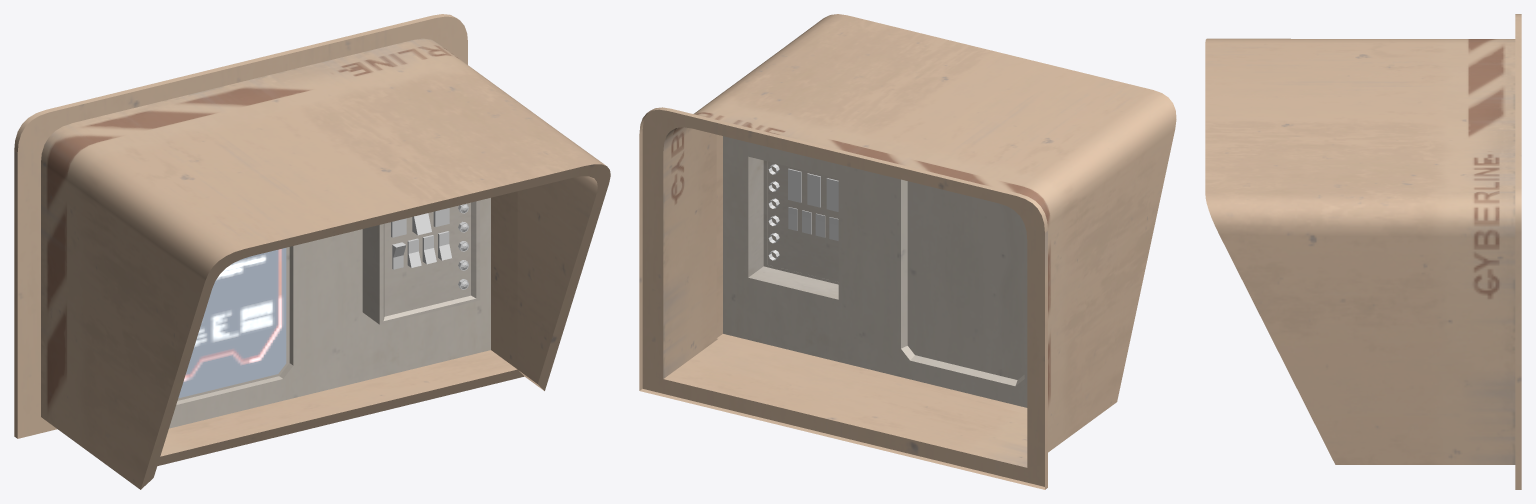
Rendered from KB3D_CBP_UtilityDevice_K.fbx.
The picture shows the model from 3 angles, left to right: view 1: azimuth 30°, elevation 25°; view 2: azimuth 150°, elevation 25°; view 3: azimuth 270°, elevation 25°; orthographic projection. The views are drawn at different scales.
Visible parts, largest first — view 1: KB3D_CBP_UtilityDevice_K_Main; view 2: KB3D_CBP_UtilityDevice_K_Main; view 3: KB3D_CBP_UtilityDevice_K_Main.
Part boxes in pixels (<box>): KB3D_CBP_UtilityDevice_K_Main: <box>14,14,610,489</box>; KB3D_CBP_UtilityDevice_K_Main: <box>639,14,1176,489</box>; KB3D_CBP_UtilityDevice_K_Main: <box>1205,14,1521,489</box>.
Size of the model in its own units: 70.61 by 47.76 by 47.64.
